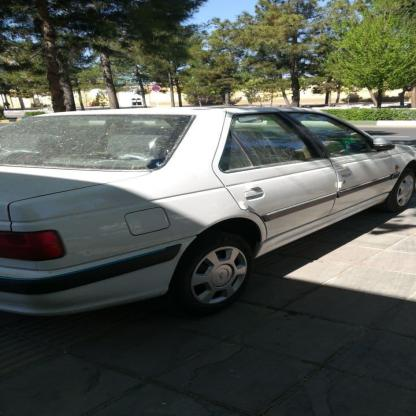Car: (0, 86, 416, 338)
